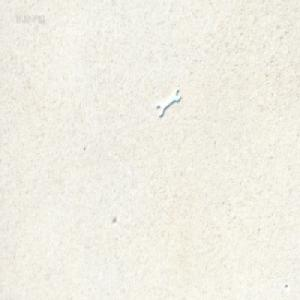Wrench: (156, 86, 180, 116)
